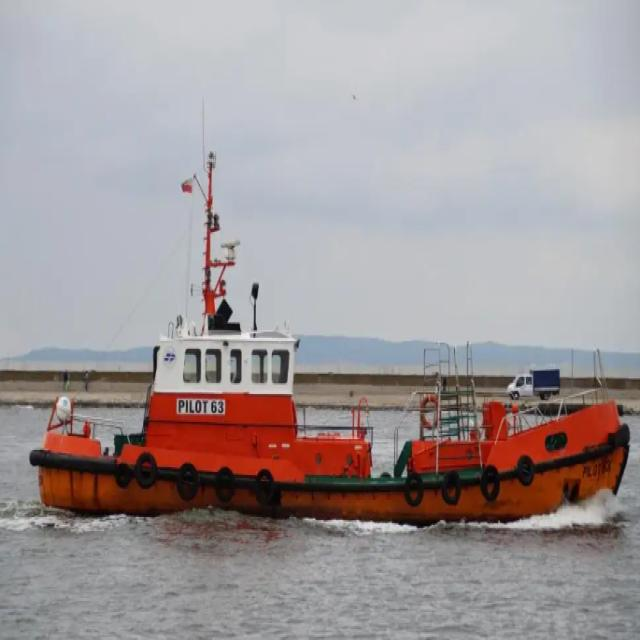fishing boat: (29, 190, 624, 520)
